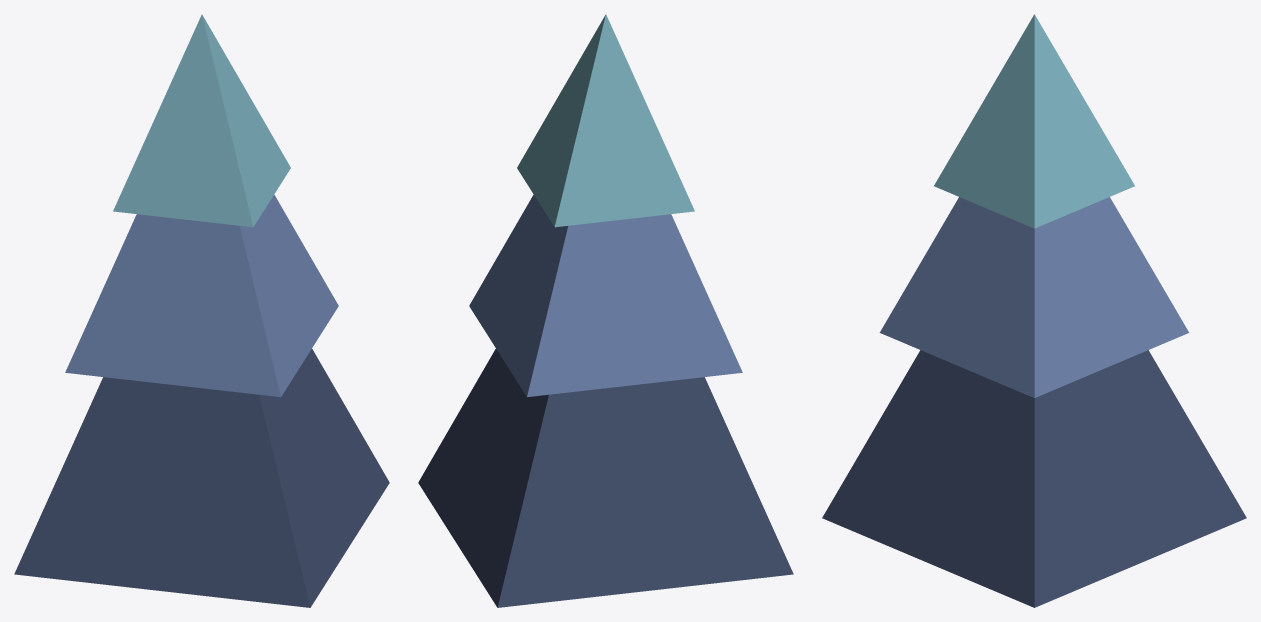
Rendered from Christmas_31.fbx.
3 views of the same model, side by side, from view 1: azimuth 30°, elevation 25°; view 2: azimuth 150°, elevation 25°; view 3: azimuth 270°, elevation 25° (orthographic). The views are drawn at different scales.
Parts seen in each view (by area): view 1: Christmas_31; view 2: Christmas_31; view 3: Christmas_31.
Boxes of the visible parts, <box> form: Christmas_31: <box>14,14,389,607</box>; Christmas_31: <box>418,14,793,607</box>; Christmas_31: <box>822,14,1246,607</box>.
Bounding box in the file's own units: 302 × 395 × 302.
1 material, 1 textured.
